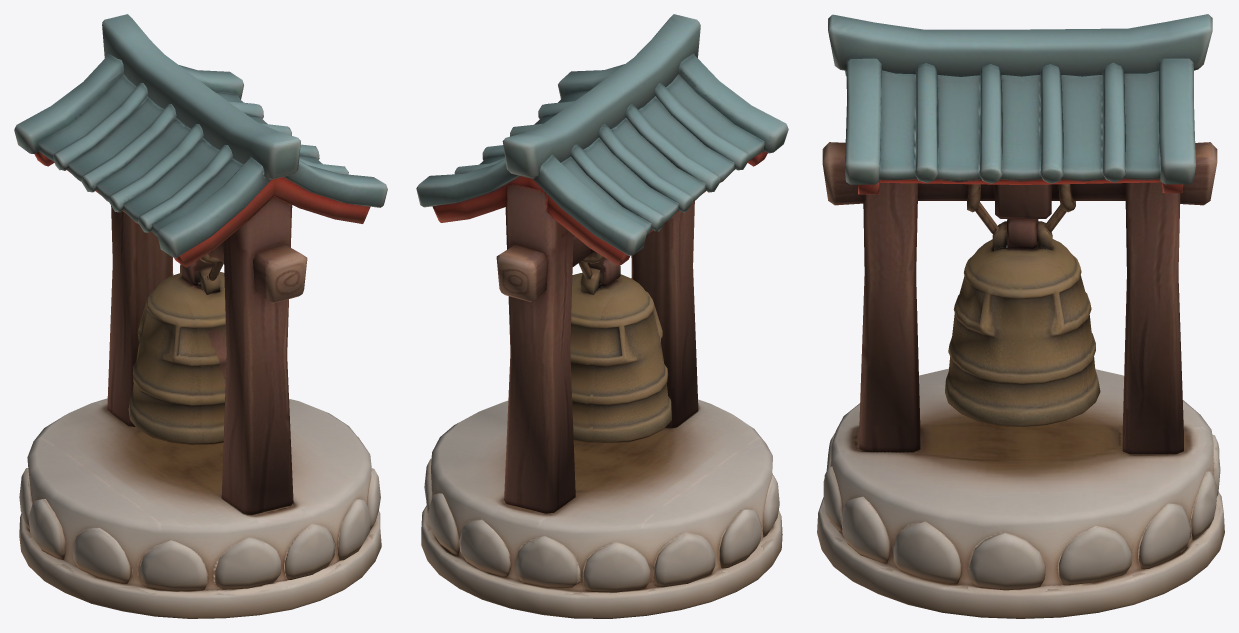
File: tripo_convert_17a847ea-bebb-4e46-b953-dc49b2840a1d.fbx
The picture shows the model from 3 angles, left to right: view 1: azimuth 30°, elevation 25°; view 2: azimuth 150°, elevation 25°; view 3: azimuth 270°, elevation 25°; orthographic projection. The views are drawn at different scales.
Parts seen in each view (by area): view 1: tripo_node_17a847ea; view 2: tripo_node_17a847ea; view 3: tripo_node_17a847ea.
Boxes of the visible parts, left/top/right/bottom form: tripo_node_17a847ea: left=14, top=14, right=387, bottom=618; tripo_node_17a847ea: left=416, top=14, right=788, bottom=618; tripo_node_17a847ea: left=817, top=14, right=1224, bottom=618.
Size of the model in its own units: 0.7051 by 0.998 by 0.7168.
1 material, 1 textured.
